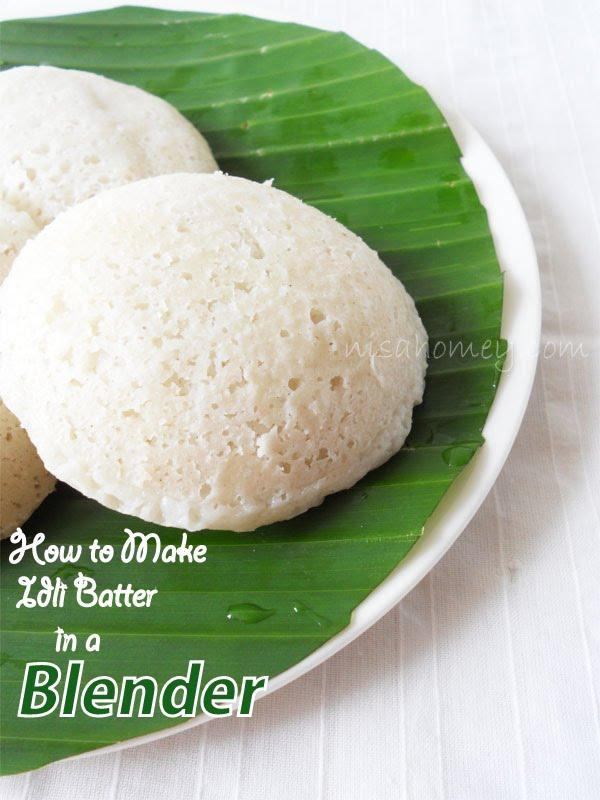idli: (3, 61, 435, 516)
